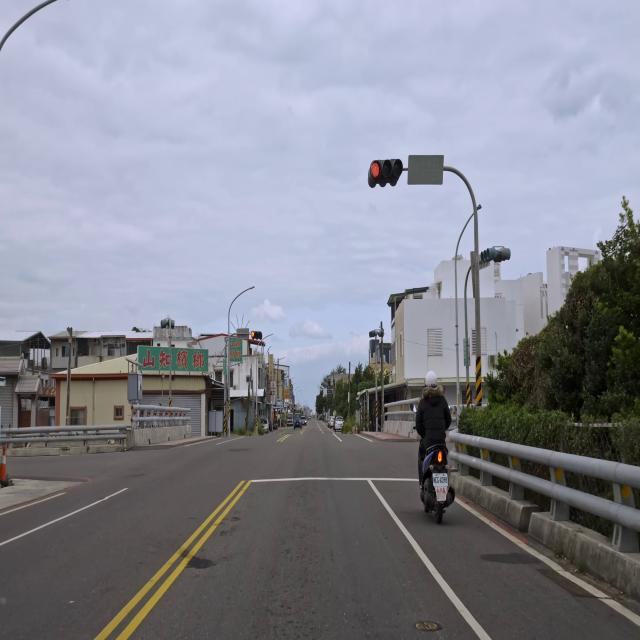red light: (367, 160, 403, 185), (250, 330, 263, 340)
